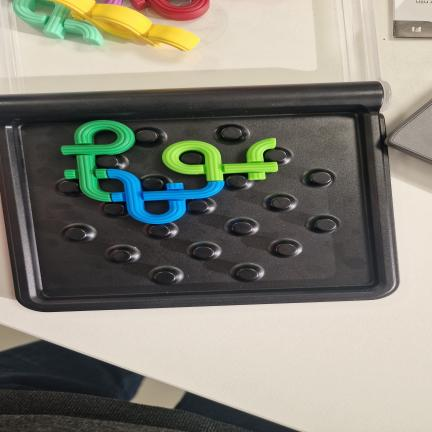B_SkyBlue: (107, 169, 223, 224)
D_Green: (62, 121, 135, 201)
K_YellowGreen: (162, 139, 277, 182)
board: (0, 82, 398, 312)
hinge: (0, 84, 403, 113)
pin: (180, 152, 204, 165), (143, 177, 165, 191), (96, 155, 119, 168), (136, 129, 158, 142), (265, 149, 287, 162), (310, 171, 332, 184), (187, 200, 209, 213), (315, 218, 337, 231), (154, 271, 176, 284), (221, 127, 242, 140), (226, 175, 247, 188), (193, 246, 214, 259), (276, 243, 297, 256), (237, 268, 258, 281), (64, 228, 86, 240), (110, 249, 130, 262), (58, 181, 79, 193), (270, 197, 291, 209), (231, 222, 252, 234), (149, 225, 170, 237), (104, 203, 124, 215)
